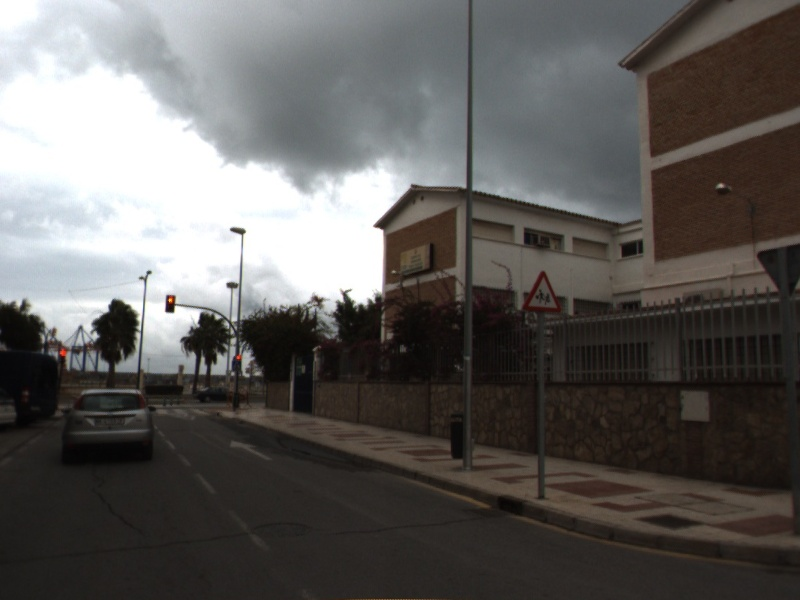STRAIGHT: (227, 437, 275, 464)
